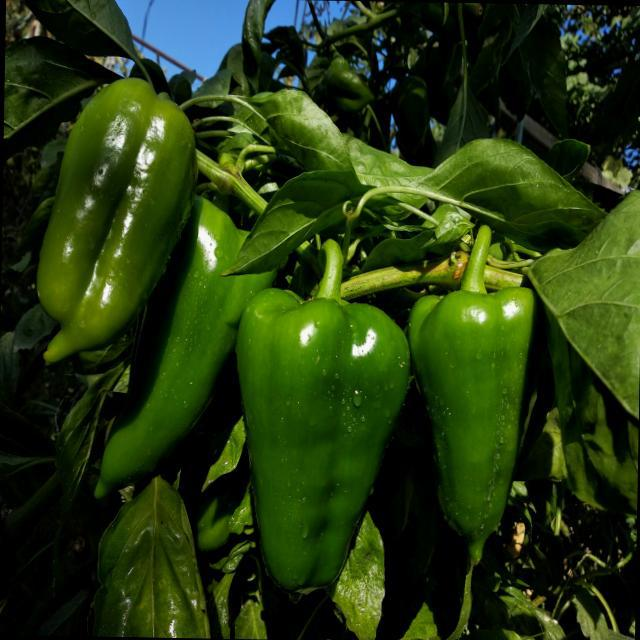Capsicum: (242, 242, 410, 592), (99, 193, 278, 488), (33, 74, 196, 366), (420, 232, 534, 562)
